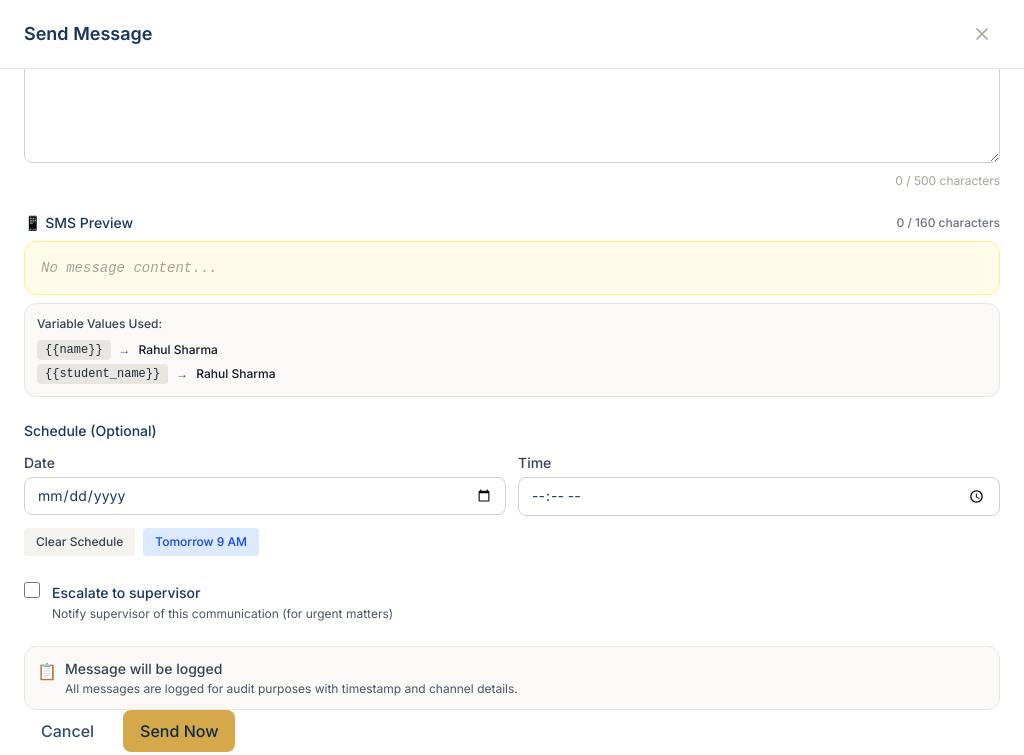
Scenario: Task 14 - Embedded Communication Patterns › SendMessagePanel Component Integration › validates missing channels
(page scrolled)
What coordinates should you click on to do the following:
click the button "Send Now"
I would click on:
 (179, 731)
Its box is [123, 710, 235, 752].
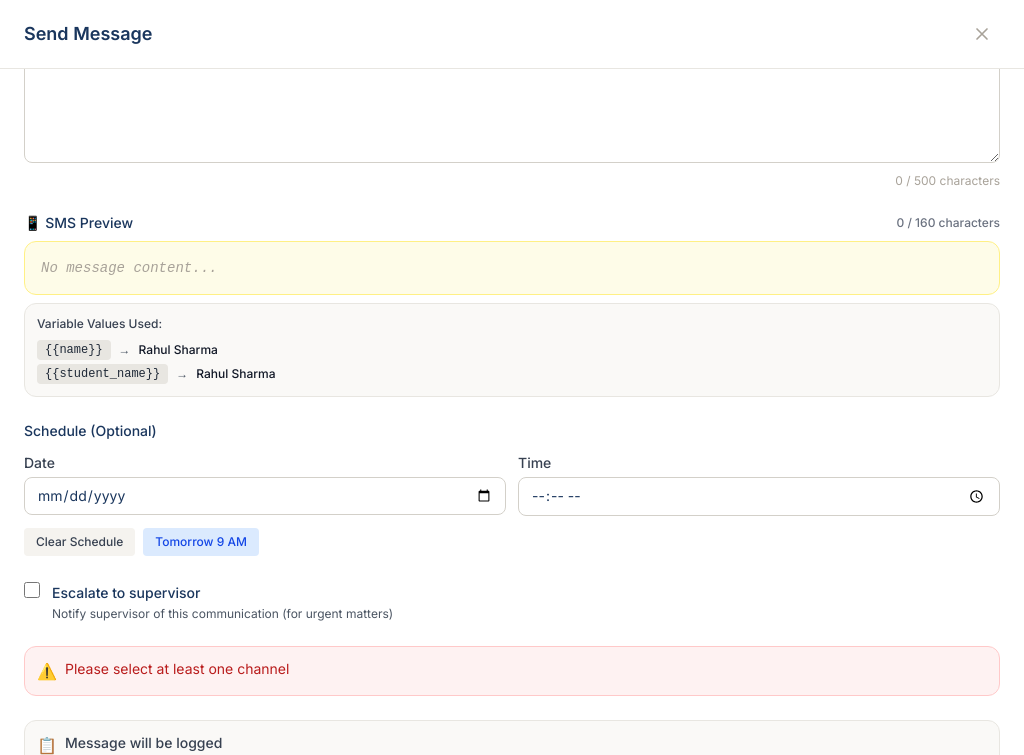
Result: the text "Please select at least one channel" is shown at [65, 659, 289, 679]
